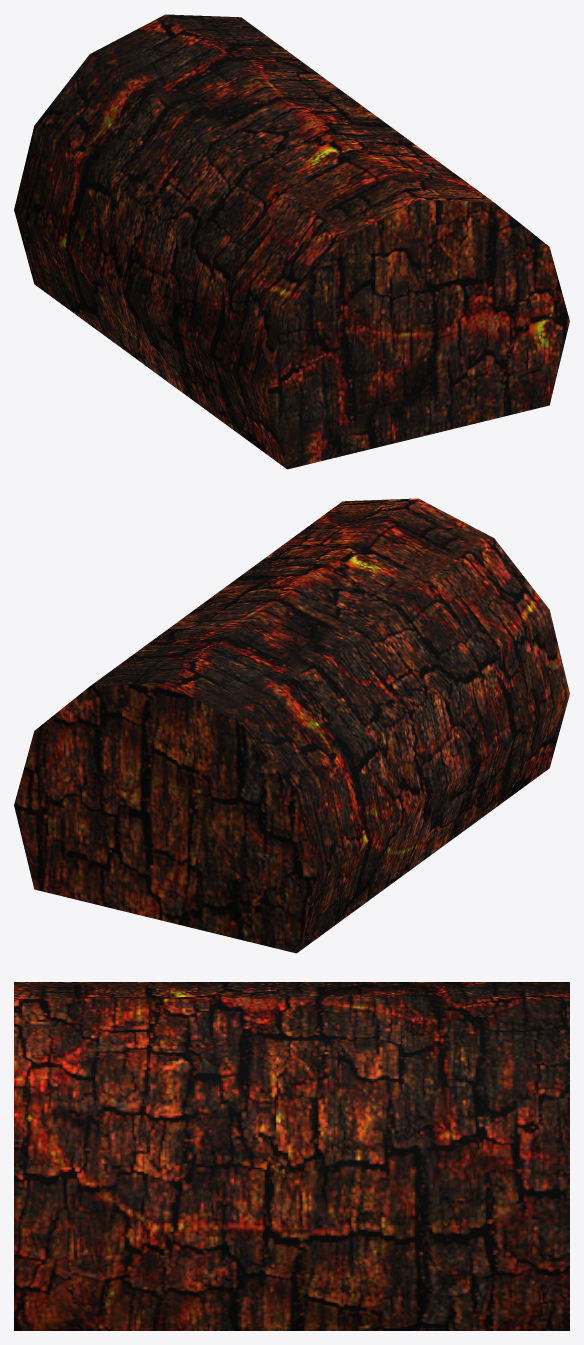
File: firewood_03.fbx
The picture shows the model from 3 angles, top to bottom: view 1: azimuth 30°, elevation 25°; view 2: azimuth 150°, elevation 25°; view 3: azimuth 270°, elevation 25°; orthographic projection. The views are drawn at different scales.
Parts seen in each view (by area): view 1: firewood_03; view 2: firewood_03; view 3: firewood_03.
Boxes of the visible parts, left/top/right/bottom form: firewood_03: left=14, top=14, right=569, bottom=469; firewood_03: left=14, top=498, right=569, bottom=953; firewood_03: left=14, top=982, right=569, bottom=1330.
Bounding box in the file's own units: 9.76 × 7.32 × 14.12.
